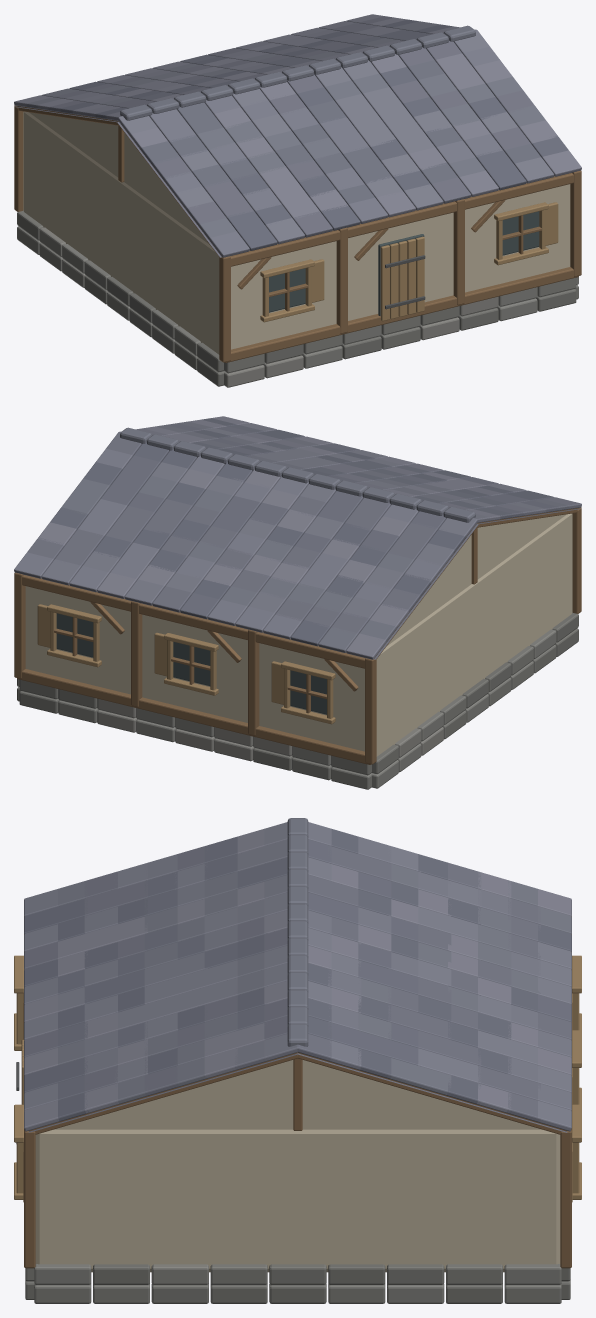
Rendered from c01_store_4x4.glb.
The picture shows the model from 3 angles, top to bottom: view 1: azimuth 30°, elevation 25°; view 2: azimuth 150°, elevation 25°; view 3: azimuth 270°, elevation 25°; orthographic projection. The views are drawn at different scales.
Visible parts, largest first — view 1: Walls, Roof; view 2: Walls, Roof; view 3: Roof, Walls.
Boxes of the visible parts, bbox=[...] form: Walls: bbox=[14, 105, 581, 387]; Roof: bbox=[14, 14, 581, 257]; Walls: bbox=[14, 507, 581, 789]; Roof: bbox=[14, 416, 581, 659]; Roof: bbox=[24, 818, 571, 1132]; Walls: bbox=[14, 916, 581, 1303].
Size of the model in its own units: 3.78 by 2 by 3.94.
1 material, 1 textured.
